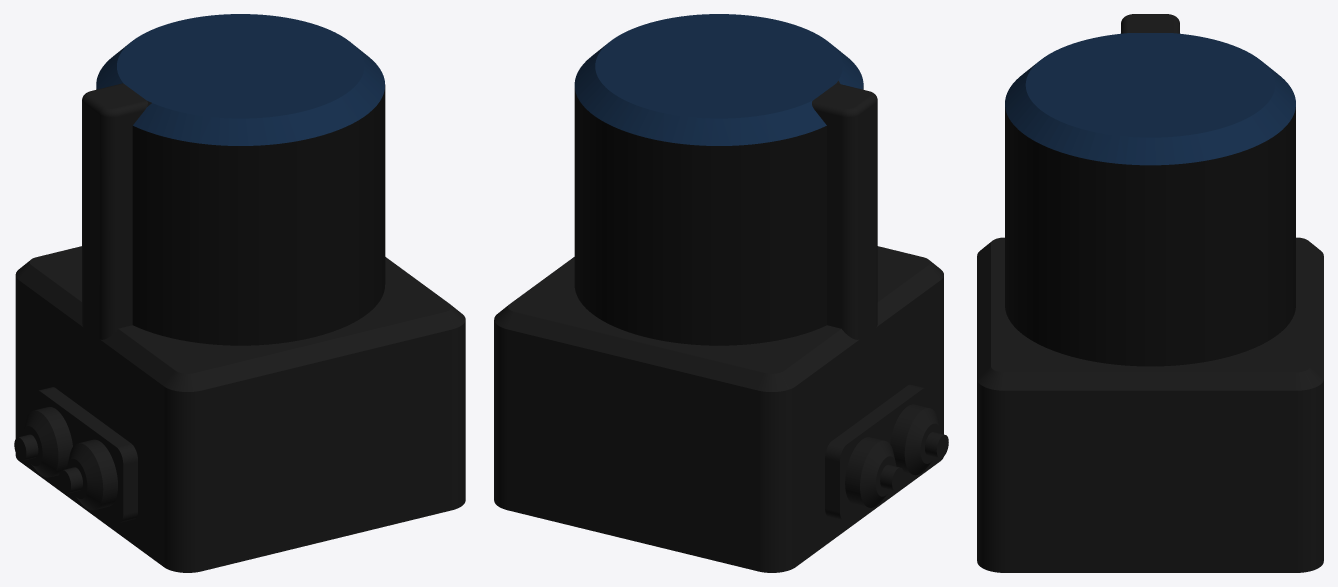
File: urg.dae
The picture shows the model from 3 angles, left to right: view 1: azimuth 30°, elevation 25°; view 2: azimuth 150°, elevation 25°; view 3: azimuth 270°, elevation 25°; orthographic projection.
Parts seen in each view (by area): view 1: Urg; view 2: Urg; view 3: Urg.
Boxes of the visible parts, x1,y1,x2,y2 form: Urg: (14, 14, 465, 572); Urg: (494, 14, 948, 572); Urg: (977, 14, 1323, 572).
Size of the model in its own units: 0.0585 by 0.05 by 0.066.
1 material, 1 textured.
